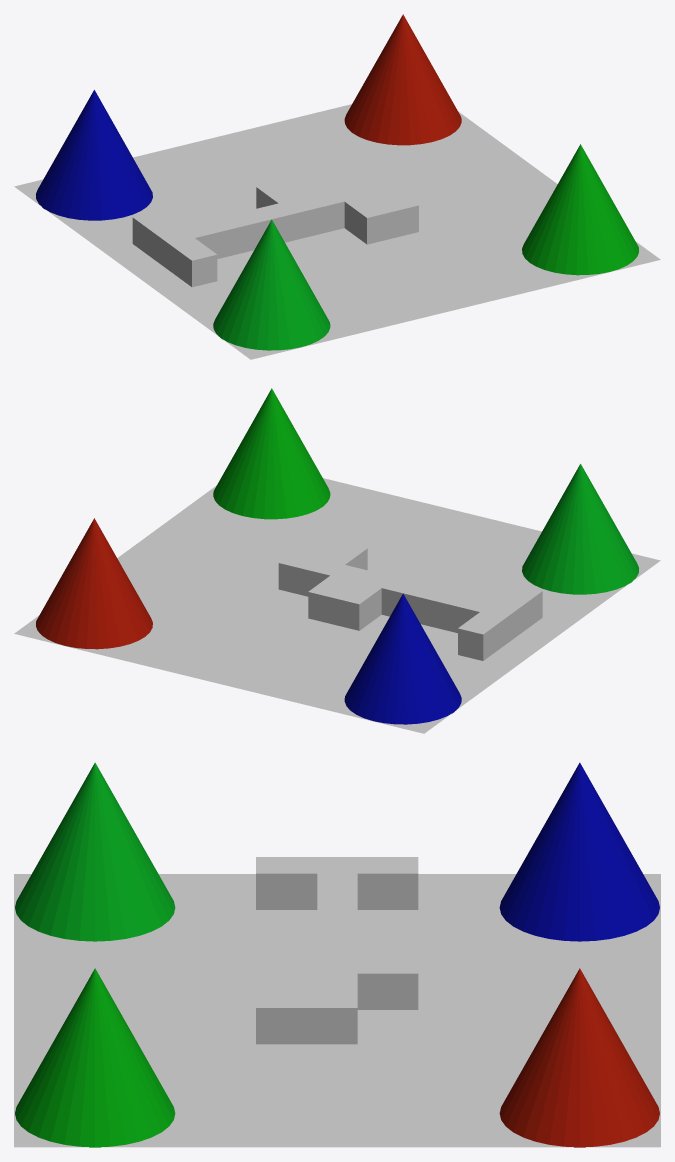
The model's file is teste3.obj.
3 renders of one model, top to bottom at view 1: azimuth 30°, elevation 25°; view 2: azimuth 150°, elevation 25°; view 3: azimuth 270°, elevation 25°, orthographic. The views are drawn at different scales.
Visible parts, largest first — view 1: Plane, Cube, Cone.001, Cone.003, Cone, Cone.002; view 2: Plane, Cube, Cone.002, Cone, Cone.003, Cone.001; view 3: Plane, Cube, Cone.003, Cone, Cone.002, Cone.001.
Boxes of the visible parts, x1=… form: Plane: x1=14, y1=104, x2=660, y2=359; Cube: x1=132, y1=174, x2=418, y2=287; Cone.001: x1=344, y1=14, x2=461, y2=145; Cone.003: x1=213, y1=219, x2=330, y2=350; Cone: x1=36, y1=90, x2=152, y2=220; Cone.002: x1=522, y1=144, x2=638, y2=275; Plane: x1=14, y1=478, x2=660, y2=733; Cube: x1=278, y1=536, x2=542, y2=660; Cone.002: x1=213, y1=388, x2=330, y2=519; Cone: x1=344, y1=593, x2=461, y2=724; Cone.003: x1=522, y1=464, x2=638, y2=594; Cone.001: x1=36, y1=518, x2=152, y2=649; Plane: x1=14, y1=874, x2=660, y2=1147; Cube: x1=256, y1=857, x2=418, y2=1044; Cone.003: x1=15, y1=762, x2=175, y2=941; Cone: x1=499, y1=762, x2=659, y2=941; Cone.002: x1=15, y1=968, x2=175, y2=1147; Cone.001: x1=499, y1=968, x2=659, y2=1147.
Bounding box in the file's own units: 8.06 × 2 × 8.05.
